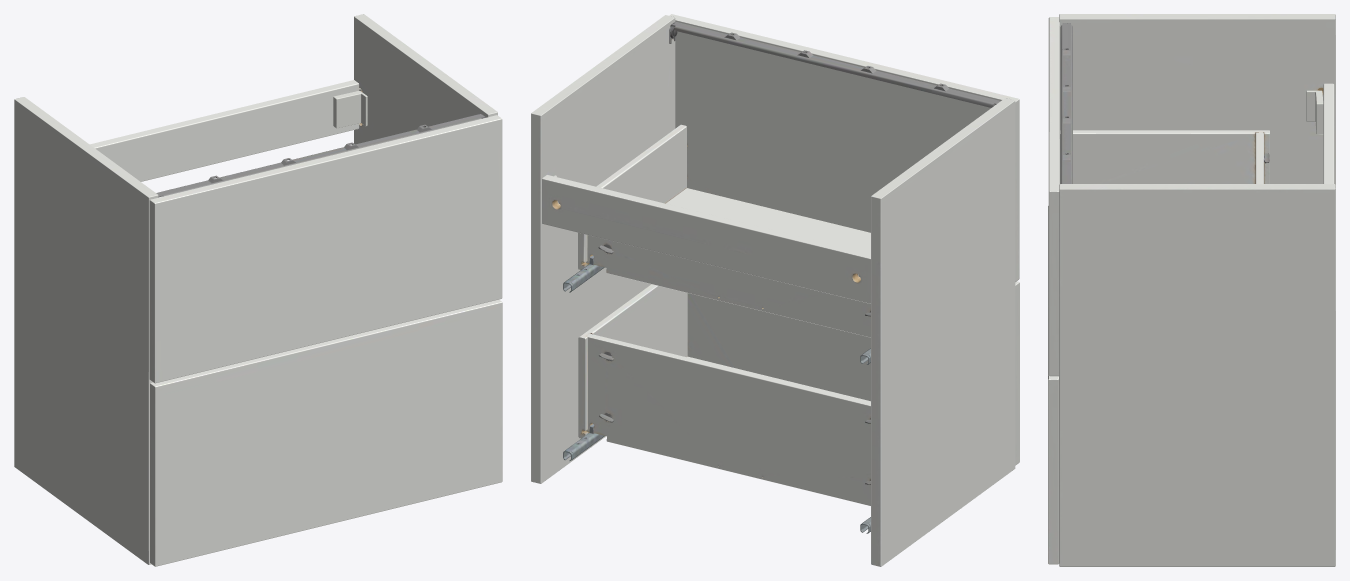
Rendered from enhet_szafka_umywalkowa_z_szufladami_50623020.glb.
The picture shows the model from 3 angles, left to right: view 1: azimuth 30°, elevation 25°; view 2: azimuth 150°, elevation 25°; view 3: azimuth 270°, elevation 25°; orthographic projection. The views are drawn at different scales.
Visible parts, largest first — view 1: enhet_szafka_umywalkowa_z_szufladami_50623020; view 2: enhet_szafka_umywalkowa_z_szufladami_50623020; view 3: enhet_szafka_umywalkowa_z_szufladami_50623020.
Boxes of the visible parts, x1,y1,x2,y2 form: enhet_szafka_umywalkowa_z_szufladami_50623020: [14, 14, 502, 566]; enhet_szafka_umywalkowa_z_szufladami_50623020: [531, 14, 1019, 566]; enhet_szafka_umywalkowa_z_szufladami_50623020: [1048, 14, 1335, 566].
Size of the model in its own units: 0.6 by 0.603 by 0.416.
Materials: 1 (1 with a texture image).
